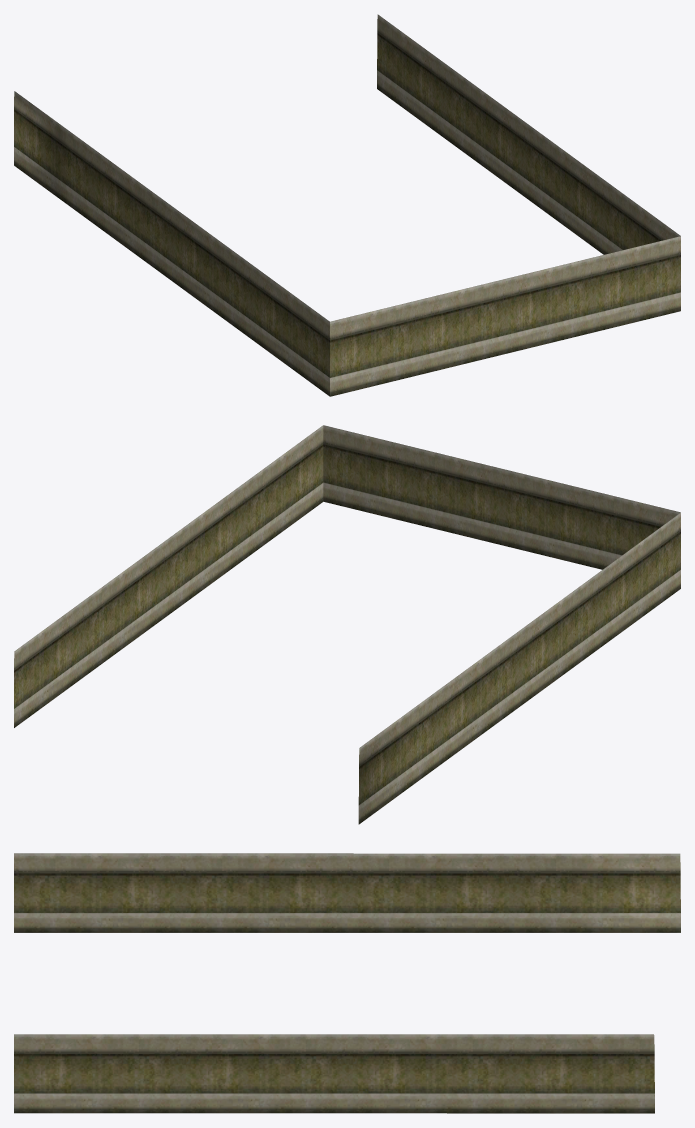
The model's file is CH09_SMAUG_PLAYSURFACE_LAIR97.fbx.
The picture shows the model from 3 angles, top to bottom: view 1: azimuth 30°, elevation 25°; view 2: azimuth 150°, elevation 25°; view 3: azimuth 270°, elevation 25°; orthographic projection. The views are drawn at different scales.
Visible parts, largest first — view 1: CH09_SMAUG_PLAYSURFACE_LAIR97; view 2: CH09_SMAUG_PLAYSURFACE_LAIR97; view 3: CH09_SMAUG_PLAYSURFACE_LAIR97.
Boxes of the visible parts, x1,y1,x2,y2 form: CH09_SMAUG_PLAYSURFACE_LAIR97: (14,14,680,396); CH09_SMAUG_PLAYSURFACE_LAIR97: (14,425,680,824); CH09_SMAUG_PLAYSURFACE_LAIR97: (14,853,680,1113).
Bounding box in the file's own units: 157874 × 32367 × 246229.
1 material, 1 textured.
